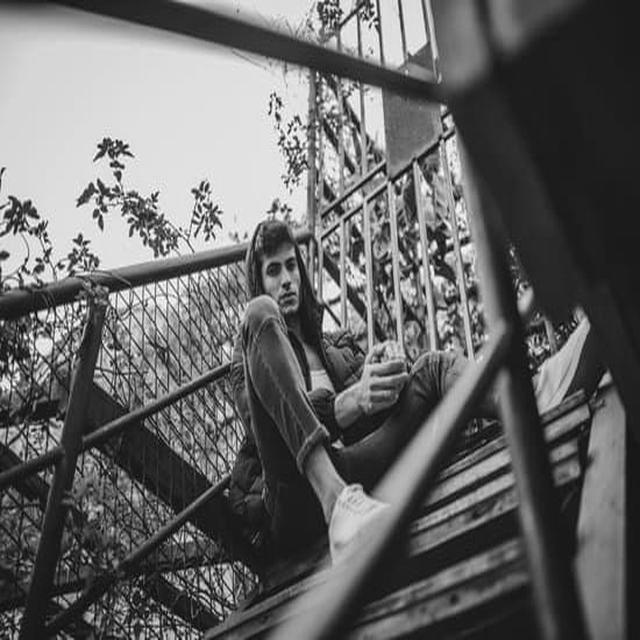Sadness: (261, 242, 300, 316)
